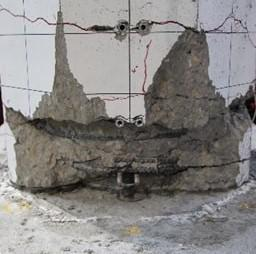spalling: (6, 12, 256, 202)
